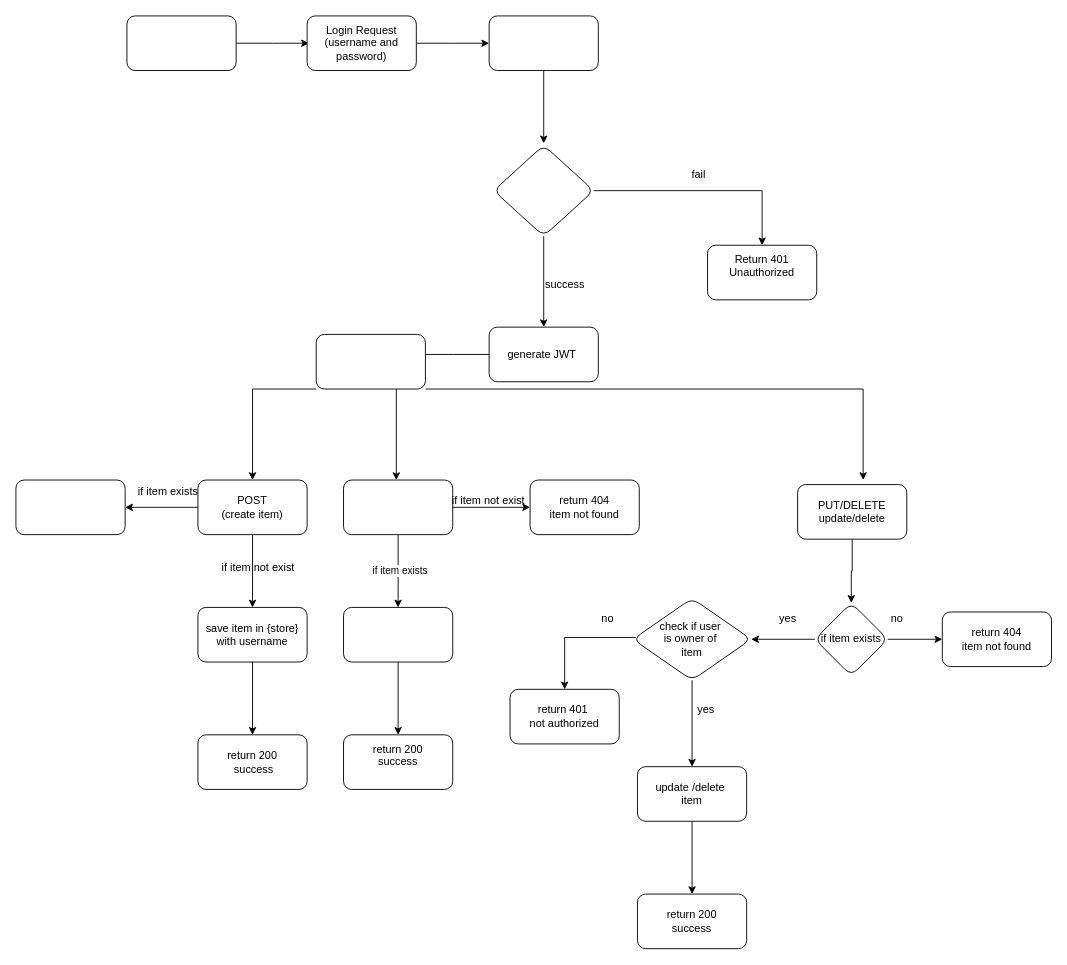
Image size: 1067x965. Some labels were removed from this diagram. The centre of each missing label's shape, as x and y in pixels:
Authentication: the point at 543,190
GET (read item): the point at 398,507
load users from .env (fake_user_db): the point at 543,43
Retrive item from {store}: the point at 398,634
Return 400 item already exists: the point at 70,507
Return JWT token to user client: the point at 370,361
Swagger ui or postman: the point at 181,43
